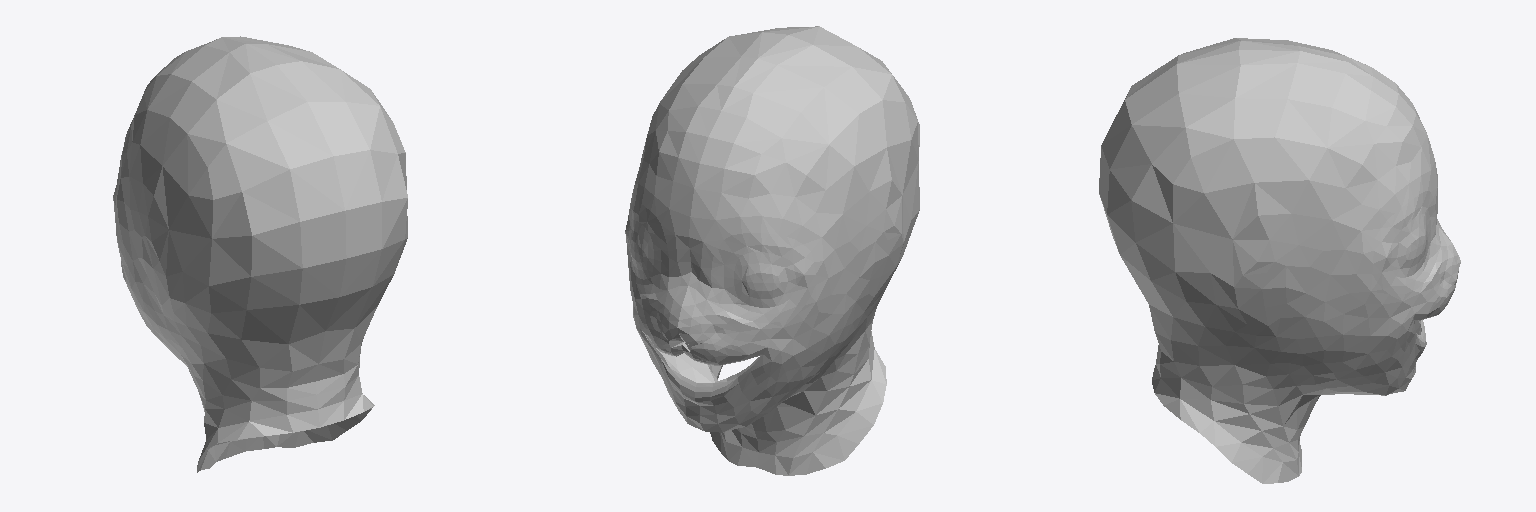
Rendered from cathead.obj.
3 views of the same model, side by side, from view 1: azimuth 30°, elevation 25°; view 2: azimuth 150°, elevation 25°; view 3: azimuth 270°, elevation 25° (orthographic).
Parts seen in each view (by area): view 1: FemaleHead_copy17_default; view 2: FemaleHead_copy17_default; view 3: FemaleHead_copy17_default.
Boxes of the visible parts, x1,y1,x2,y2 form: FemaleHead_copy17_default: [113, 36, 407, 472]; FemaleHead_copy17_default: [625, 26, 919, 475]; FemaleHead_copy17_default: [1099, 38, 1460, 483].
Bounding box in the file's own units: 13.11 × 22.38 × 17.83.